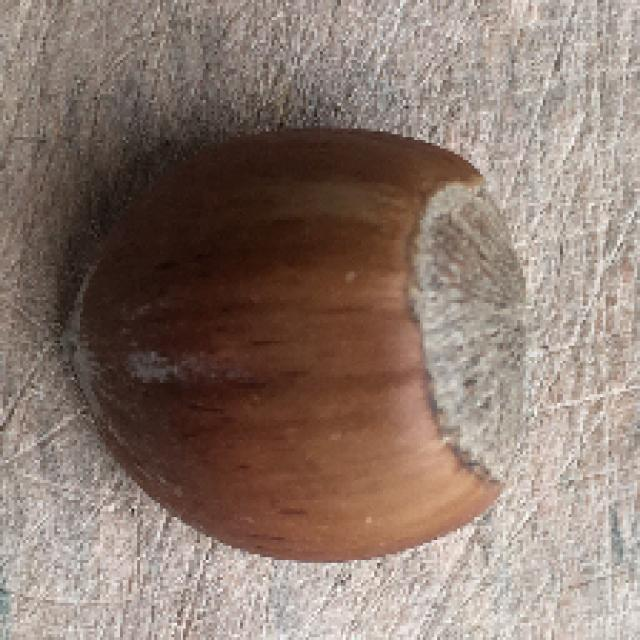DamagedHazelnut: (72, 128, 541, 558)
